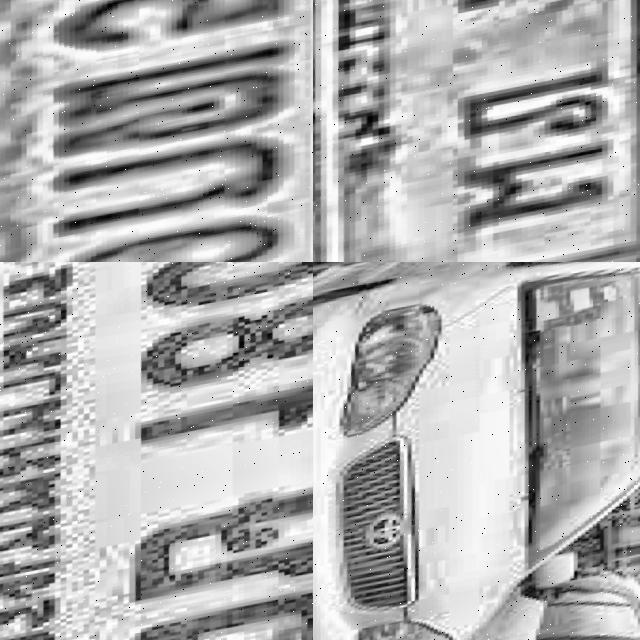license-plate: (0, 262, 313, 640), (313, 0, 640, 262), (0, 0, 313, 262)
